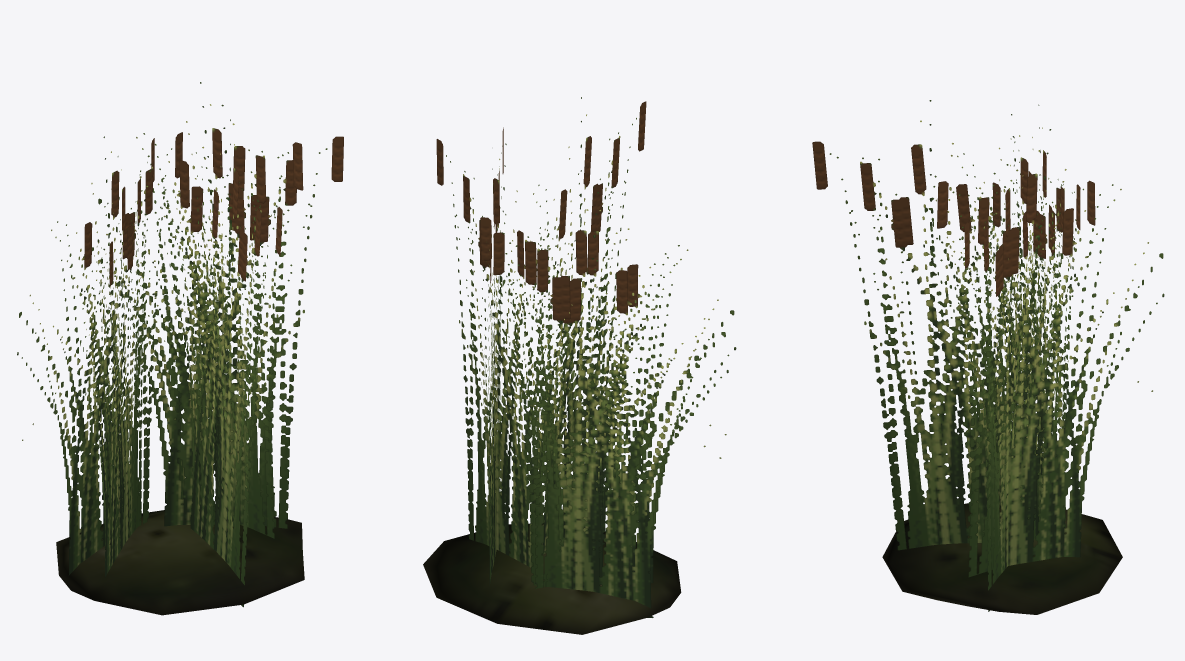
File: mirewell_reeds_a.glb
3 views of the same model, side by side, from view 1: azimuth 30°, elevation 25°; view 2: azimuth 150°, elevation 25°; view 3: azimuth 270°, elevation 25° (orthographic). The views are drawn at different scales.
Visible parts, largest first — view 1: mirewell_reeds_a; view 2: mirewell_reeds_a; view 3: mirewell_reeds_a.
Part boxes in pixels (x1,y1,x2,y2): mirewell_reeds_a: (17, 82, 343, 615); mirewell_reeds_a: (423, 97, 736, 634); mirewell_reeds_a: (812, 100, 1164, 614).
Size of the model in its own units: 1.03 by 1.5 by 1.04.
2 materials, 2 textured.
